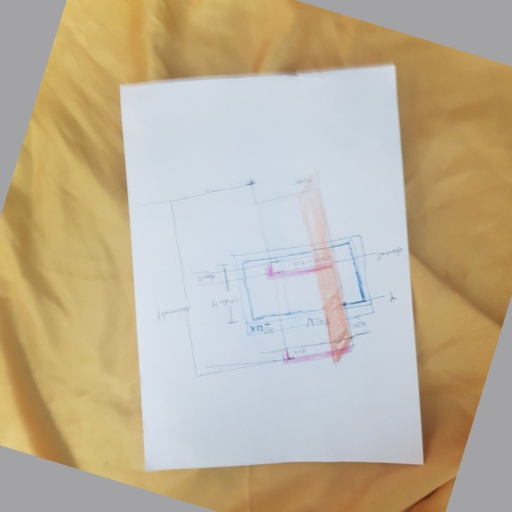Paper_2: (119, 65, 440, 480)
